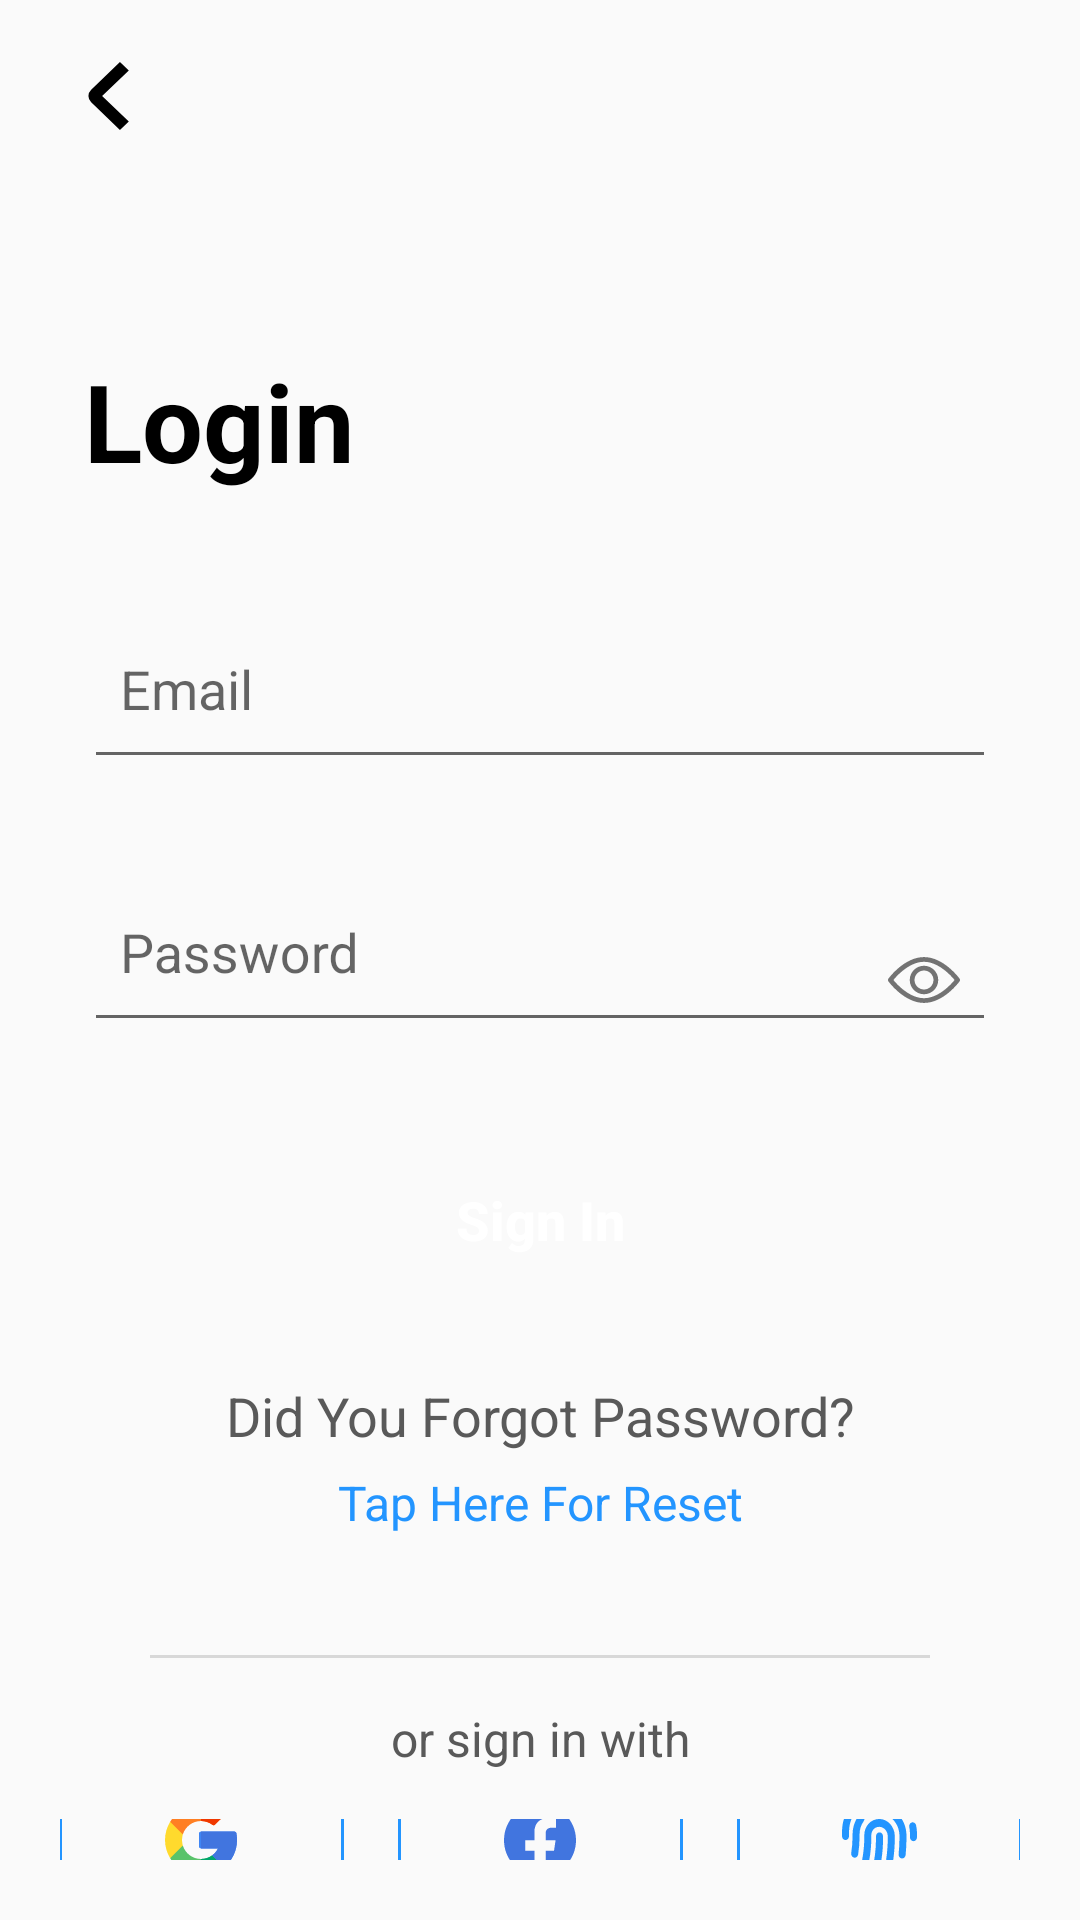

Where icons sit on this 1080x1920 app screen, as (x1, y1, x2, y2):
btnback: (88, 62, 129, 130)
